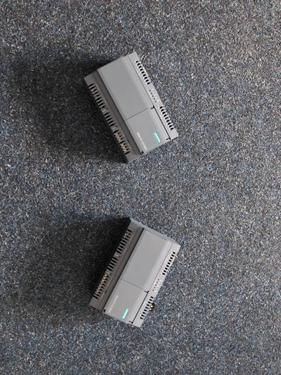device: (84, 52, 180, 164), (89, 217, 181, 328)
